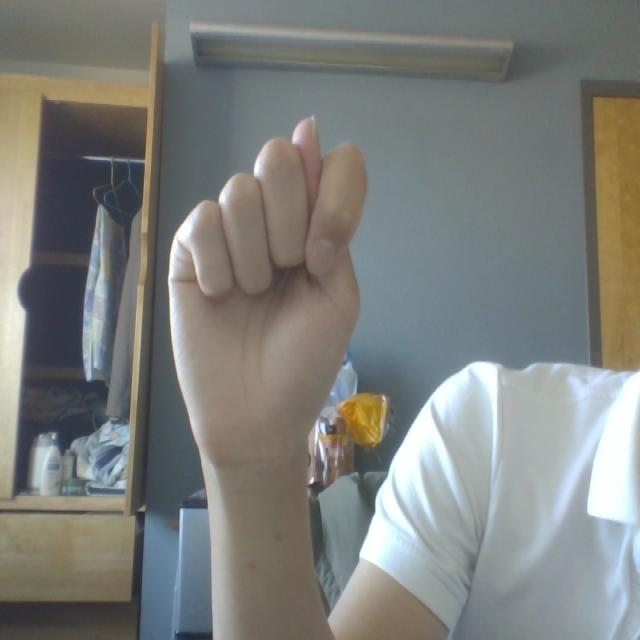T: (114, 75, 401, 539)
